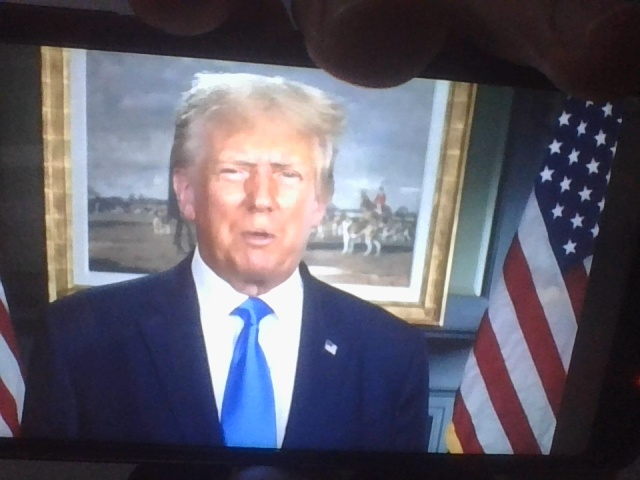fake: (181, 69, 337, 290)
